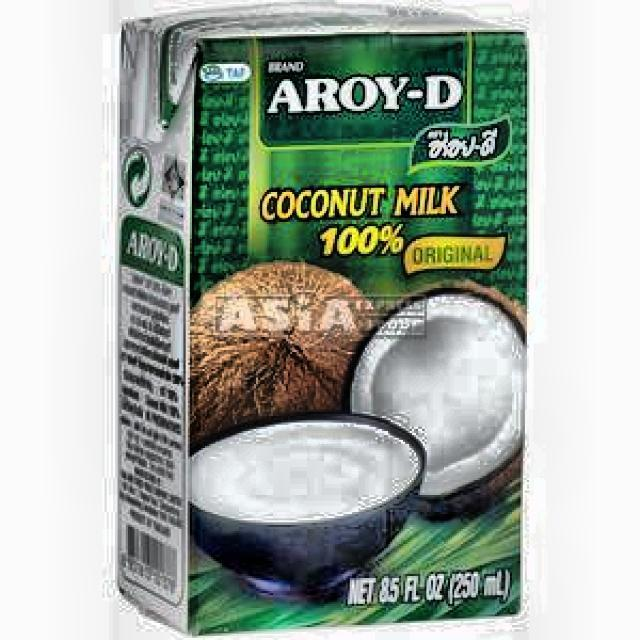cardboard: (113, 0, 529, 636)
